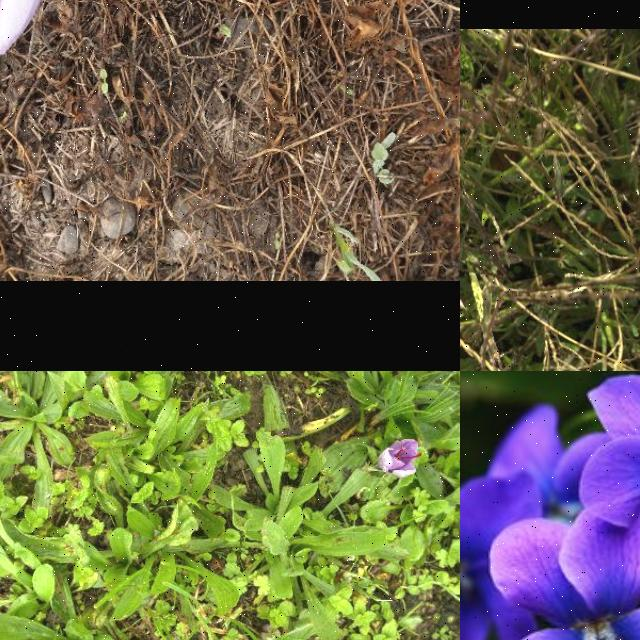flower: (0, 0, 62, 57), (381, 440, 424, 478)
